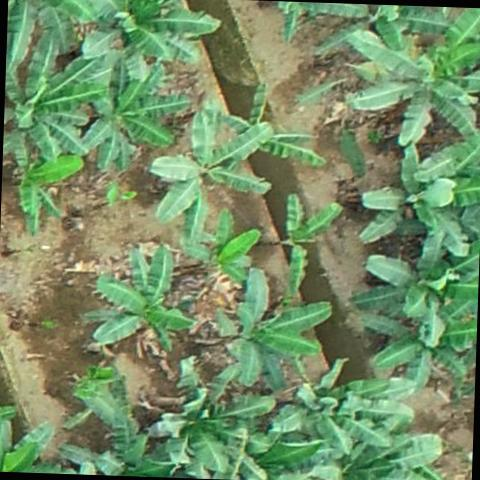Banana-plant: (270, 362, 410, 472), (352, 29, 480, 144), (152, 364, 271, 480), (358, 143, 480, 254), (154, 120, 268, 238), (218, 276, 330, 390), (355, 228, 480, 330), (350, 294, 478, 386), (84, 66, 186, 177), (3, 40, 96, 155), (91, 248, 188, 356), (76, 0, 218, 71), (272, 198, 336, 299), (180, 210, 260, 284)
